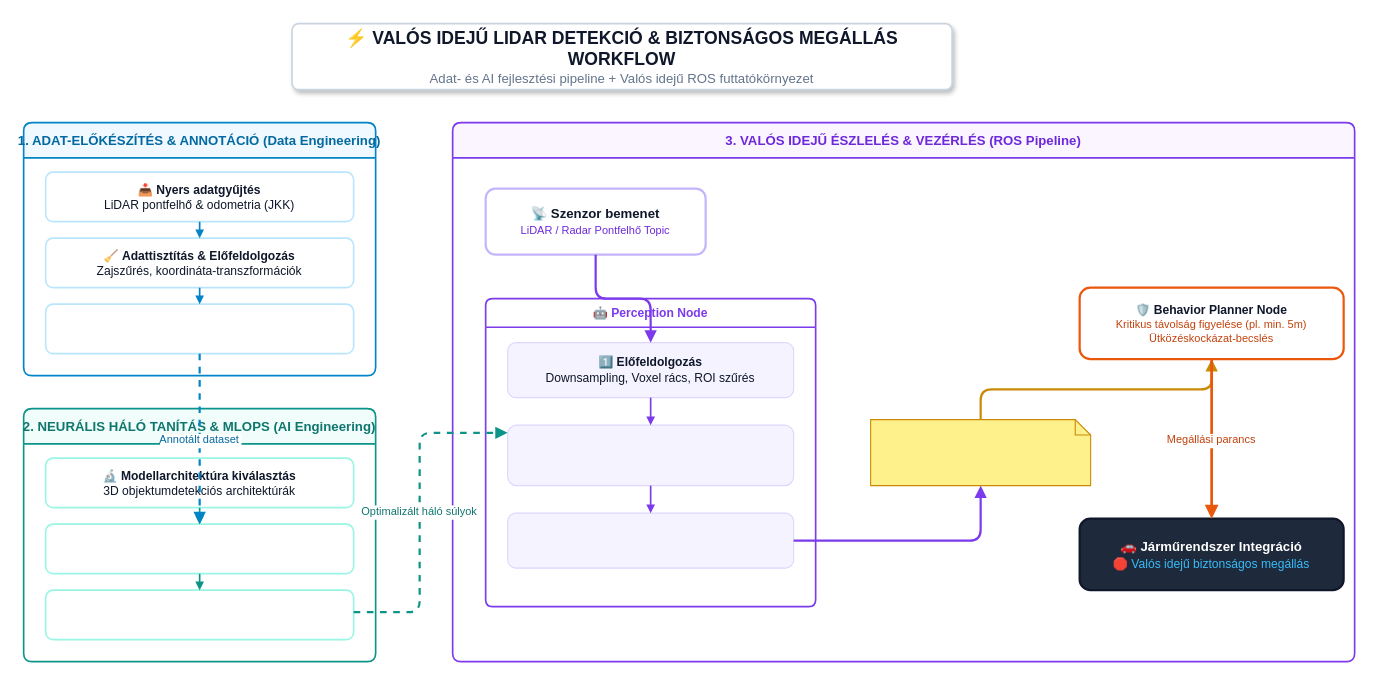
This 1375x682 diagram has some shape labels left out. The shapes that lost their labels are listed below. From the top down, each one's centre as x and y in pixels, then its label:
At [199,328]: "🏷️ 3D Annotáció & Adathalmazok nuScenes / JKK (Train / Test / Val)".
At [650,455]: "2️⃣ Neurális Háló Következtetés Betöltött modell (3D koordináták & Bounding box)".
At [980,452]: "📨 Észlelési Topic (/scenario) x, y, l, w, sebesség, gyorsulás".
At [199,548]: "⚙️ Modelltantás & Validáció Adatbetöltő, hiperparaméter-hangolás".
At [650,540]: "3️⃣ Objektum Paraméterezés Kinematikai állapot becslése".
At [199,614]: "📊 Kiértékelés & Modell Export mAP és késleltetés mérése, optimális súlyok".
